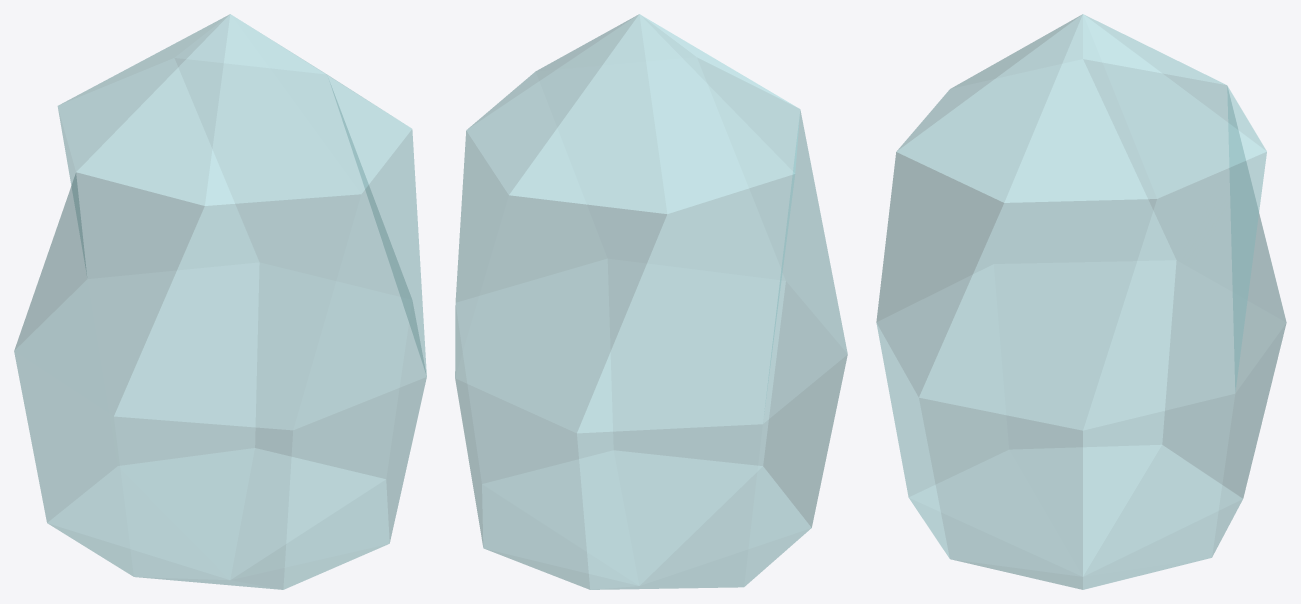
The model's file is CrystalPawn.fbx.
3 views of the same model, side by side, from view 1: azimuth 30°, elevation 25°; view 2: azimuth 150°, elevation 25°; view 3: azimuth 270°, elevation 25° (orthographic).
Visible parts, largest first — view 1: Crystal; view 2: Crystal; view 3: Crystal.
Part boxes in pixels (x1,y1,x2,y2): Crystal: [14, 14, 426, 589]; Crystal: [455, 14, 847, 589]; Crystal: [876, 14, 1286, 589].
Bounding box in the file's own units: 0.7012 × 1.08 × 0.7134.
